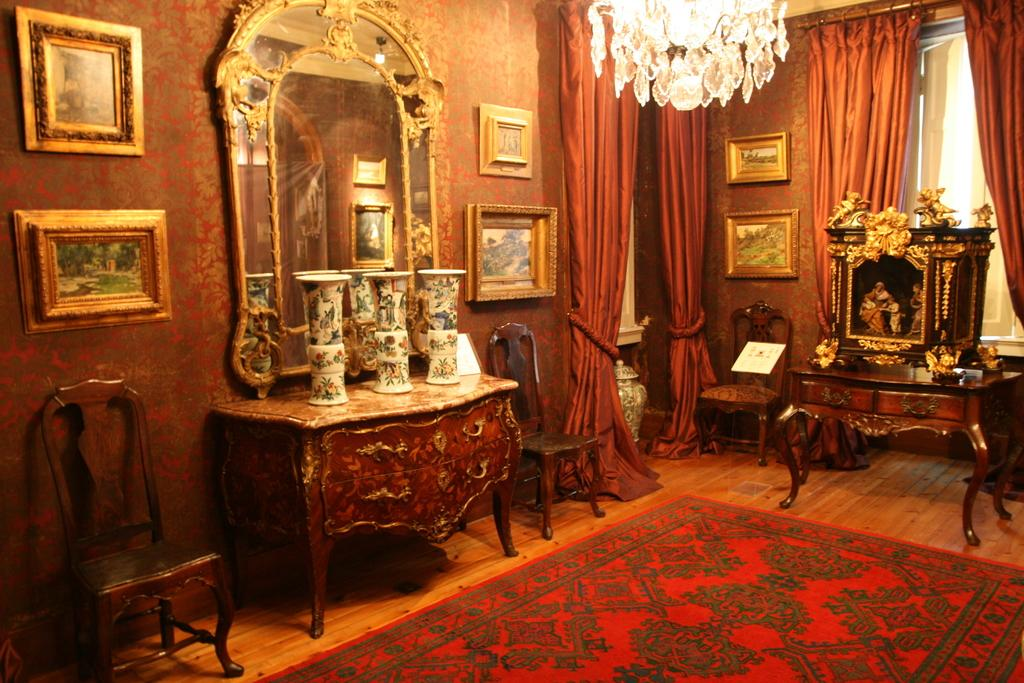Chair: (40, 377, 245, 681), (486, 321, 605, 539), (695, 300, 792, 466)
